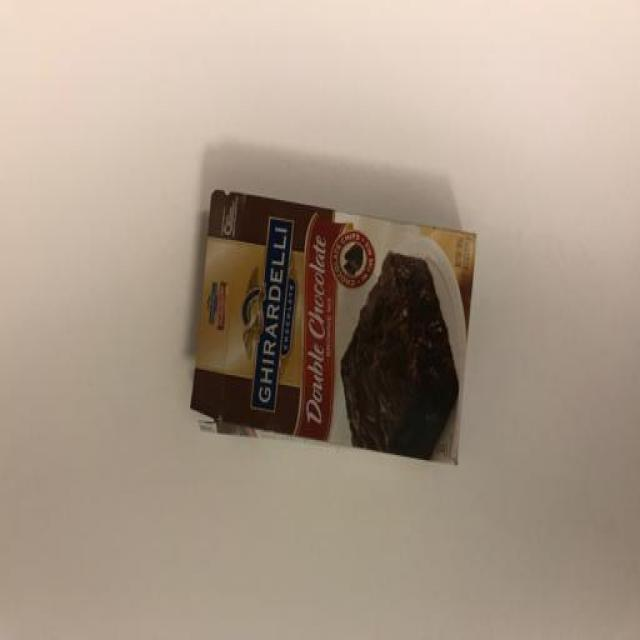paper: (184, 170, 509, 490)
